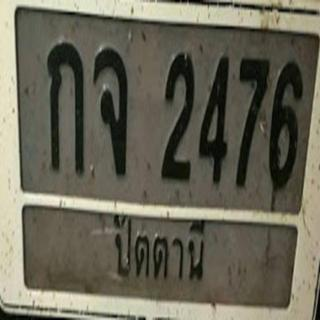A01: (40, 36, 89, 178)
A08: (90, 40, 131, 184)
N02: (156, 46, 197, 187)
N04: (198, 51, 232, 191)
N06: (269, 57, 306, 190)
N07: (232, 50, 271, 191)
P39: (104, 211, 208, 286)
